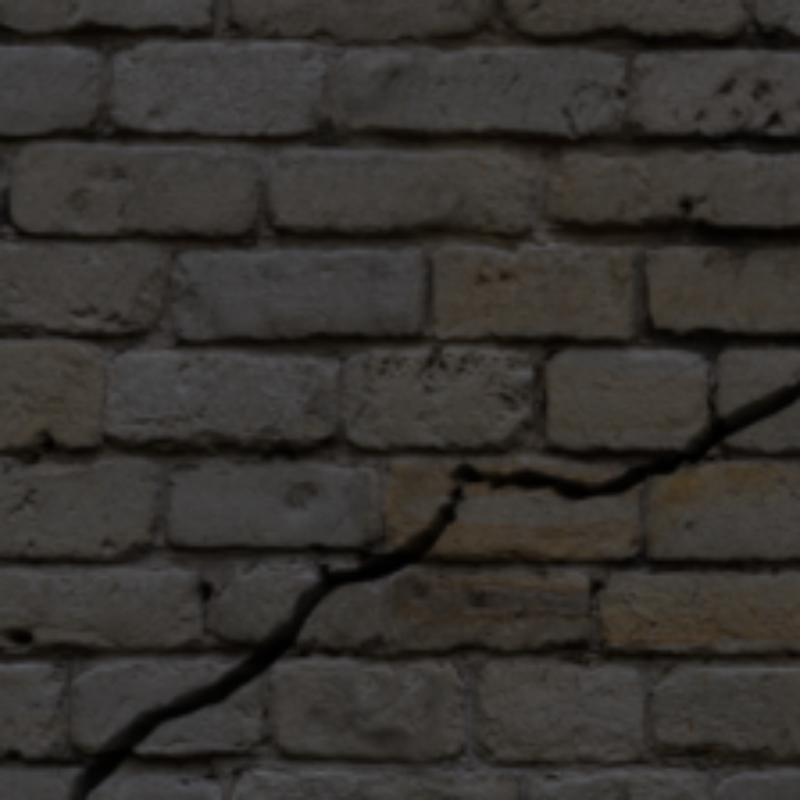pothole: (68, 379, 796, 796)
